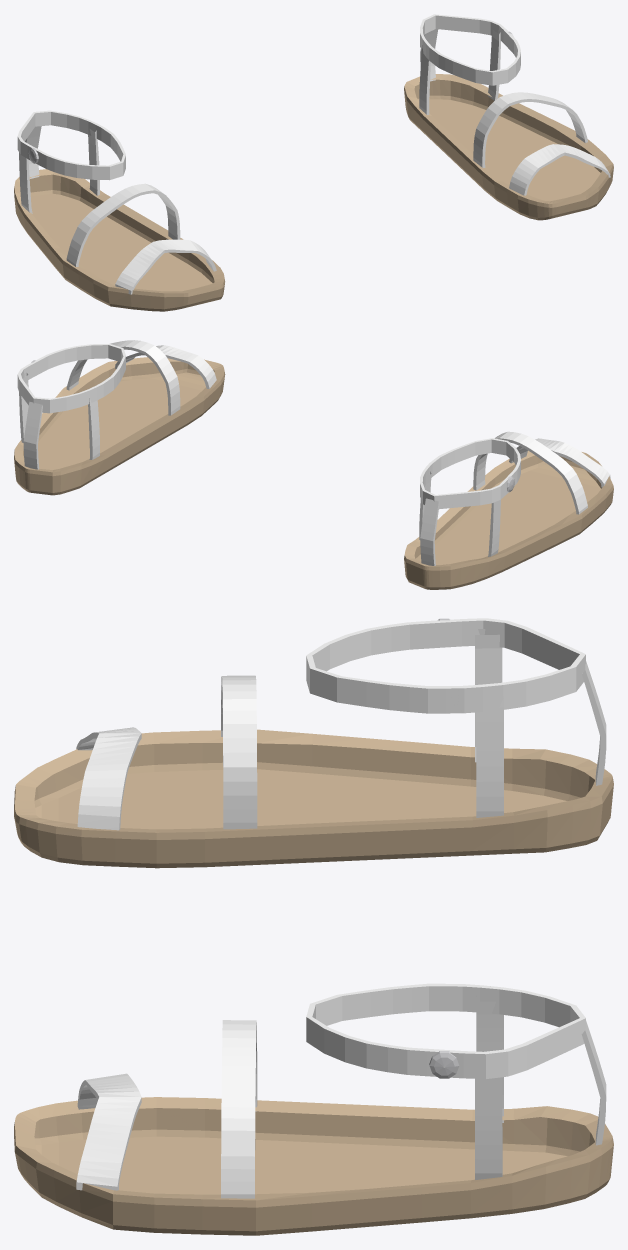
File: ewb_shoe_sandals.glb
3 renders of one model, top to bottom at view 1: azimuth 30°, elevation 25°; view 2: azimuth 150°, elevation 25°; view 3: azimuth 270°, elevation 25°, orthographic. The views are drawn at different scales.
Visible parts, largest first — view 1: ewb_shoe_sandals; view 2: ewb_shoe_sandals; view 3: ewb_shoe_sandals.
Boxes of the visible parts, x1,y1,x2,y2 form: ewb_shoe_sandals: [14, 14, 613, 311]; ewb_shoe_sandals: [14, 340, 613, 589]; ewb_shoe_sandals: [14, 618, 613, 1235].
Size of the model in its own units: 0.5532 by 0.0912 by 0.2972.
